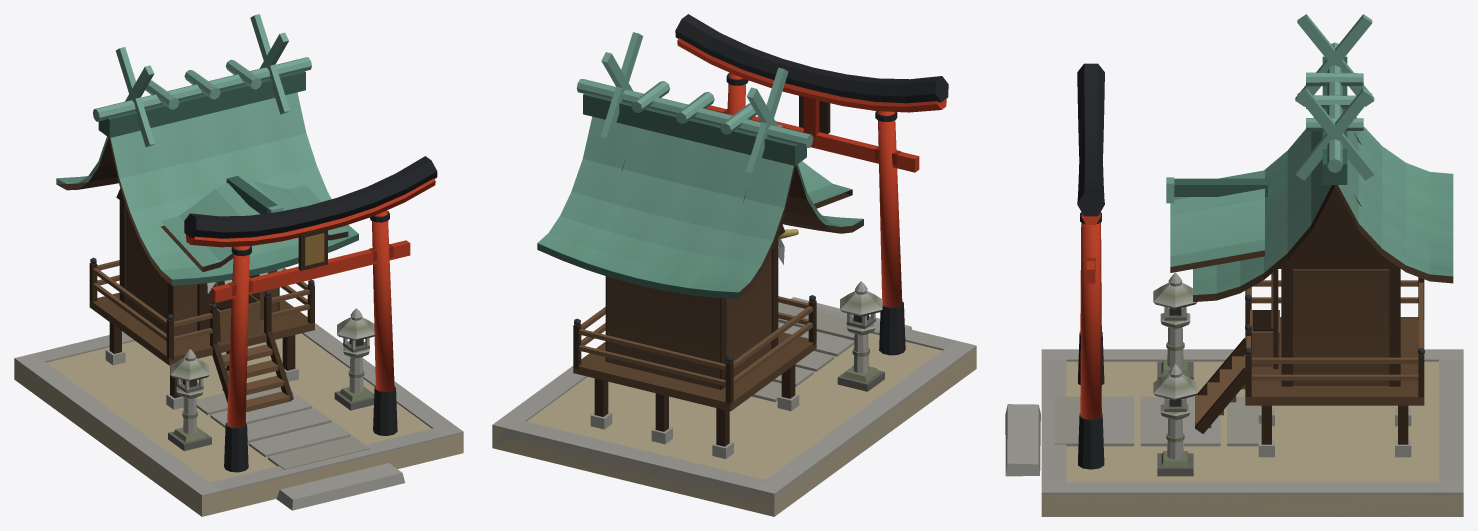
File: shrine.glb
3 views of the same model, side by side, from view 1: azimuth 30°, elevation 25°; view 2: azimuth 150°, elevation 25°; view 3: azimuth 270°, elevation 25° (orthographic). The views are drawn at different scales.
Parts seen in each view (by area): view 1: shrine; view 2: shrine; view 3: shrine.
Part boxes in pixels (<box>): shrine: <box>14,14,463,516</box>; shrine: <box>492,14,976,516</box>; shrine: <box>1005,14,1463,516</box>.
Size of the model in its own units: 3.3 by 4.21 by 4.45.
